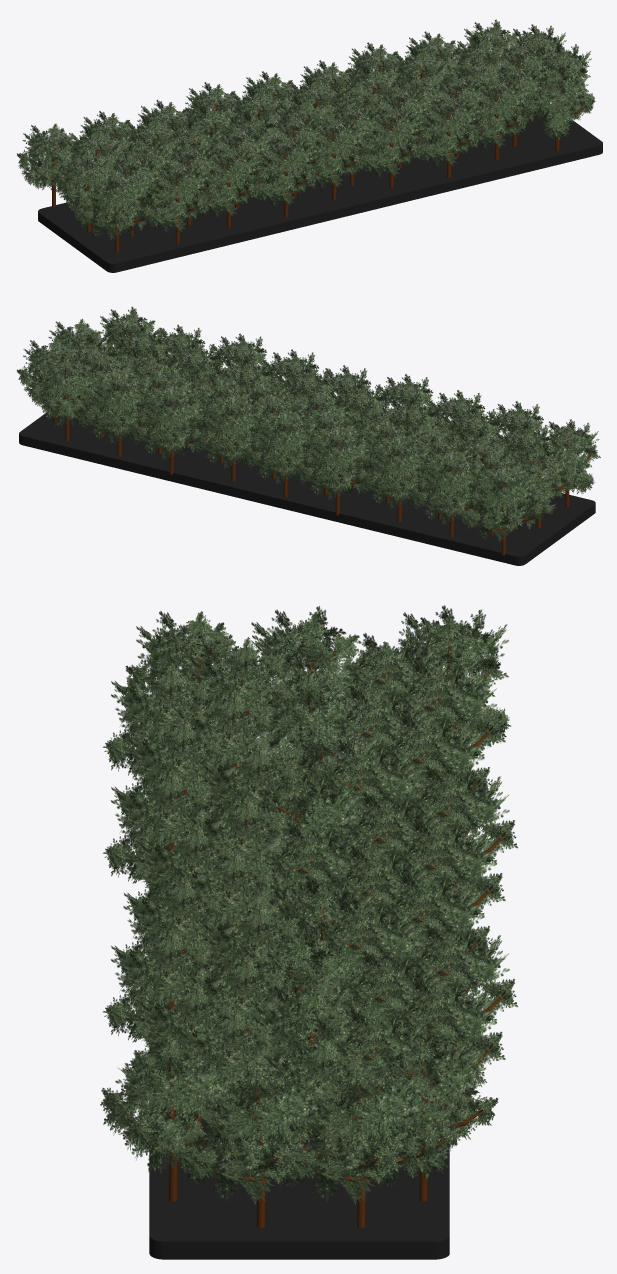
Rendered from treegrove2.glb.
The picture shows the model from 3 angles, top to bottom: view 1: azimuth 30°, elevation 25°; view 2: azimuth 150°, elevation 25°; view 3: azimuth 270°, elevation 25°; orthographic projection. The views are drawn at different scales.
Parts seen in each view (by area): view 1: Cylinder, treelineEW, treelineEW.003, treelineEW.006, treelineEW.001, treelineEW.005, treelineEW.002, treelineEW.007, treelineEW.008, treelineEW.004, treelineEW4, treelineTop (+34 smaller); view 2: Cylinder, treelineEW4, treelineEW4.003, treelineEW4.006, treelineEW4.001, treelineEW4.004, treelineEW4.007, treelineEW4.005, treelineEW4.002, treelineEW4.008, treelineTop, treelineEW (+34 smaller); view 3: Cylinder, treelineEW3.008, treelineEW2.008, treelineEW.008, treelineEW4.008, treelineEW.003, treelineEW.006, treelineEW4, treelineEW4.003, treelineEW.001, treelineEW4.007, treelineEW4.006 (+34 smaller).
Part boxes in pixels (<box>): Cylinder: <box>38,96,602,272</box>; treelineEW: <box>71,170,166,252</box>; treelineEW.003: <box>255,134,329,217</box>; treelineEW.006: <box>418,95,492,177</box>; treelineEW.001: <box>145,161,220,243</box>; treelineEW.005: <box>360,106,432,188</box>; treelineEW.002: <box>196,145,269,228</box>; treelineEW.007: <box>464,77,539,159</box>; treelineEW.008: <box>527,65,594,151</box>; treelineEW.004: <box>302,117,374,199</box>; treelineEW4: <box>17,123,78,206</box>; treelineTop: <box>54,149,122,232</box>; Cylinder: <box>19,386,595,565</box>; treelineEW4: <box>457,469,555,555</box>; treelineEW4.003: <box>292,428,382,515</box>; treelineEW4.006: <box>126,388,216,474</box>; treelineEW4.001: <box>406,453,496,537</box>; treelineEW4.004: <box>240,413,318,497</box>; treelineEW4.007: <box>75,372,152,456</box>; treelineEW4.005: <box>188,397,266,481</box>; treelineEW4.002: <box>354,437,432,522</box>; treelineEW4.008: <box>31,356,104,441</box>; treelineTop: <box>507,440,576,527</box>; treelineEW: <box>530,419,600,506</box>; Cylinder: <box>149,758,449,1259</box>; treelineEW3.008: <box>278,1062,463,1227</box>; treelineEW2.008: <box>171,1062,353,1227</box>; treelineEW.008: <box>100,1034,247,1201</box>; treelineEW4.008: <box>359,1028,498,1201</box>; treelineEW.003: <box>102,769,232,898</box>; treelineEW.006: <box>102,928,232,1055</box>; treelineEW4: <box>371,605,511,768</box>; treelineEW4.003: <box>371,765,518,927</box>; treelineEW.001: <box>102,663,229,820</box>; treelineEW4.007: <box>360,977,505,1114</box>; treelineEW4.006: <box>371,924,518,1084</box>.
Size of the model in its own units: 98.45 by 16.46 by 33.64.
Materials: 3 (1 with a texture image).
